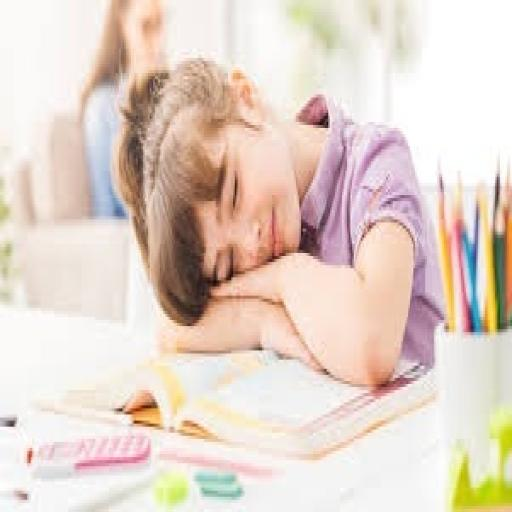sleeping: (112, 52, 448, 390)
